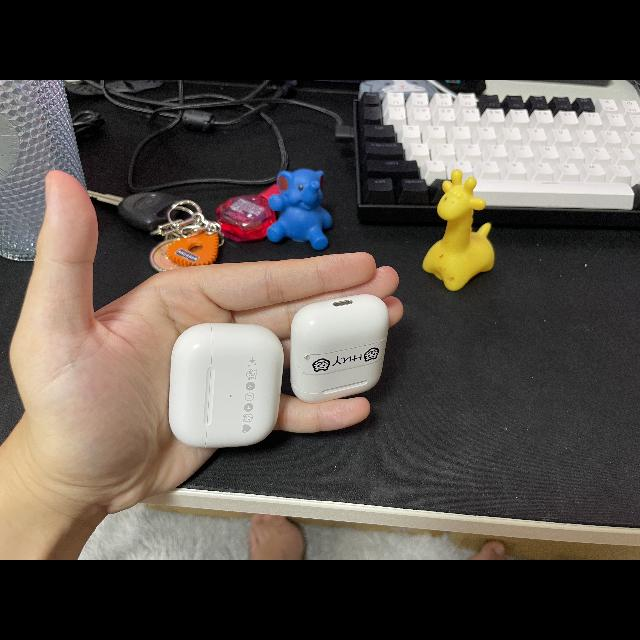airpod2: (288, 292, 390, 404)
airpod3: (165, 317, 287, 448)
